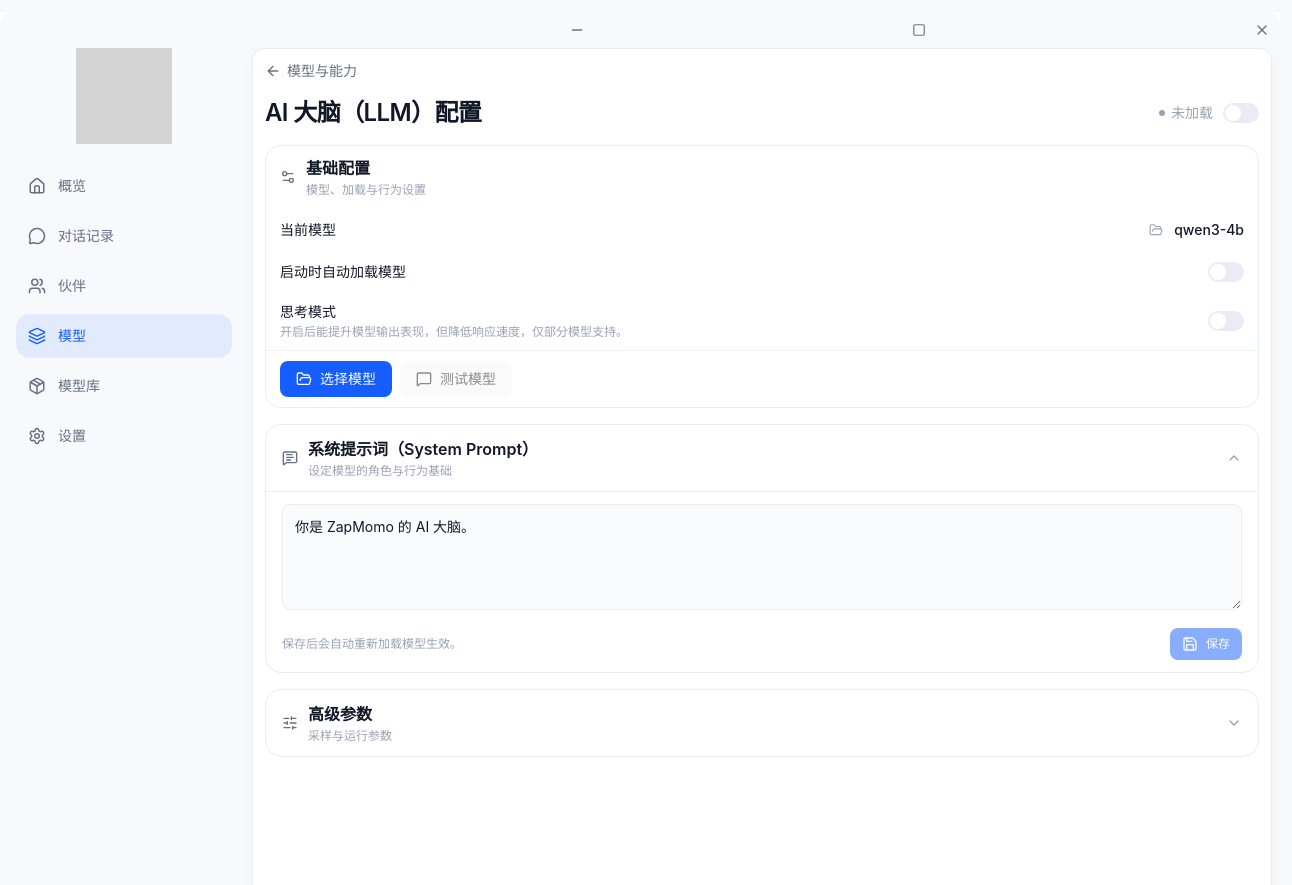
Test: LlmPage（AI 大脑配置） › 模型路径默认隐藏，点击图标展开/收起
Expected: the text "未加载" is shown, [1159,103,1213,123]
Expected: the text "/home/user/.zapmomo/models/qwen3-4b.gguf" is not shown
Click the button named "查看模型路径" at (1156, 230), box [1144,218,1168,242]
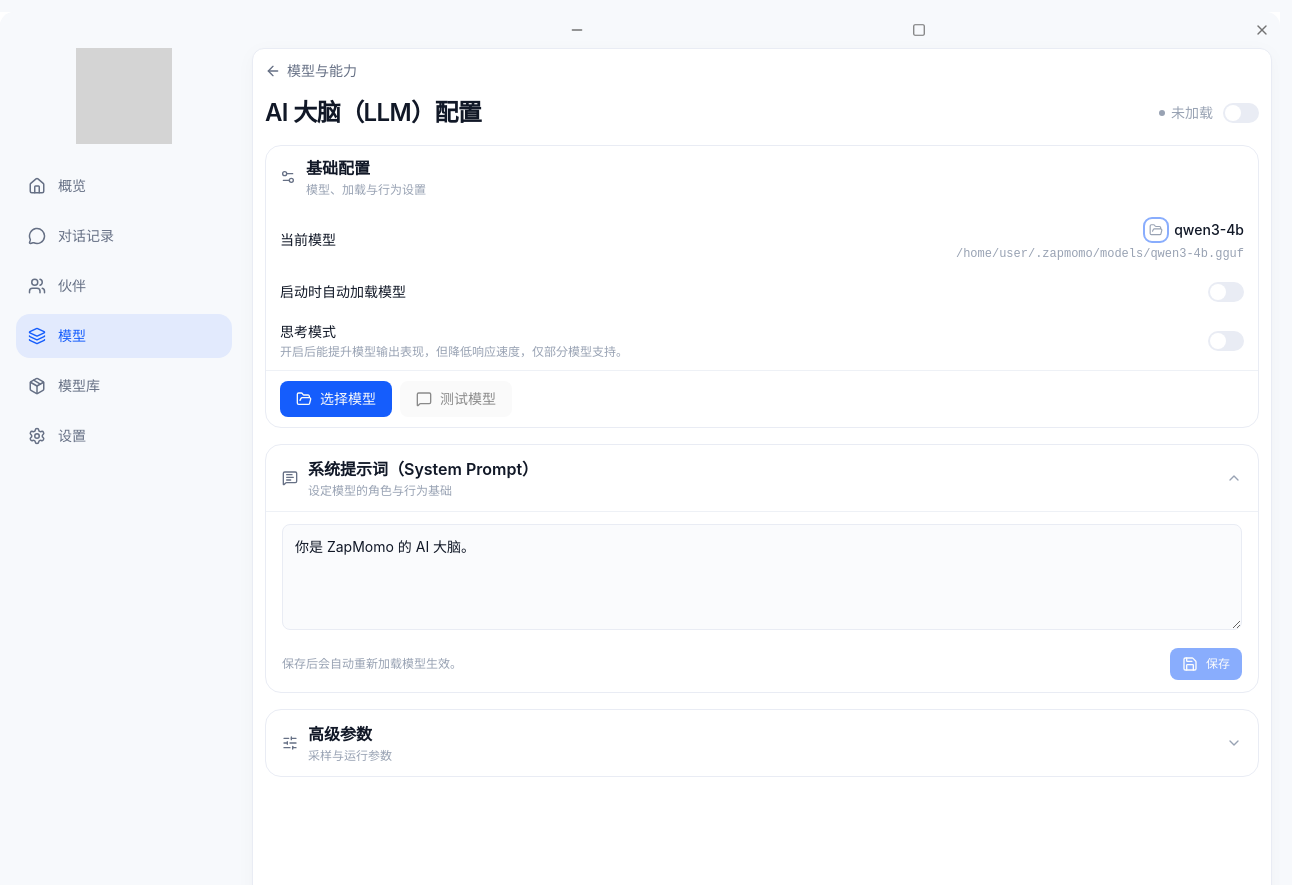
Result: the text "/home/user/.zapmomo/models/qwen3-4b.gguf" is shown at [956,246,1244,262]
Click the button named "隐藏模型路径" at (1156, 230), box [1144,218,1168,242]
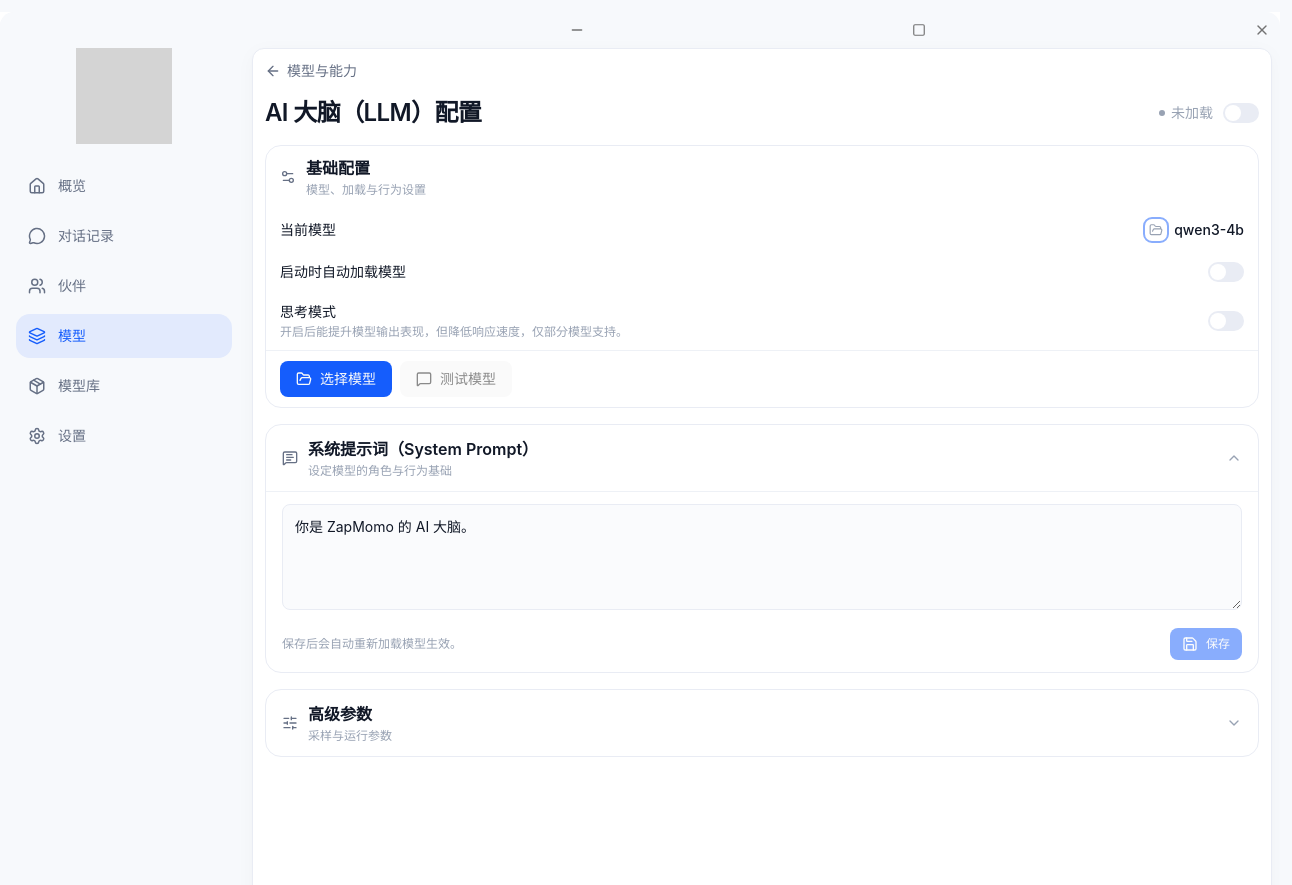
Result: the text "/home/user/.zapmomo/models/qwen3-4b.gguf" is gone
